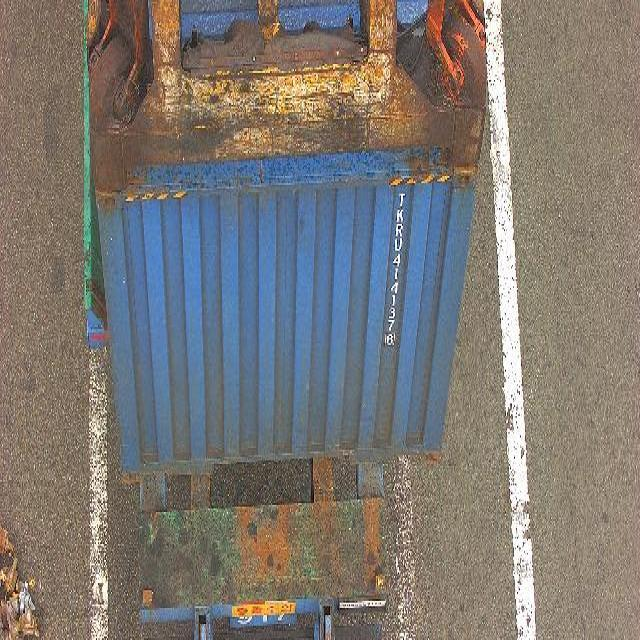container_number: (382, 175, 410, 358)
